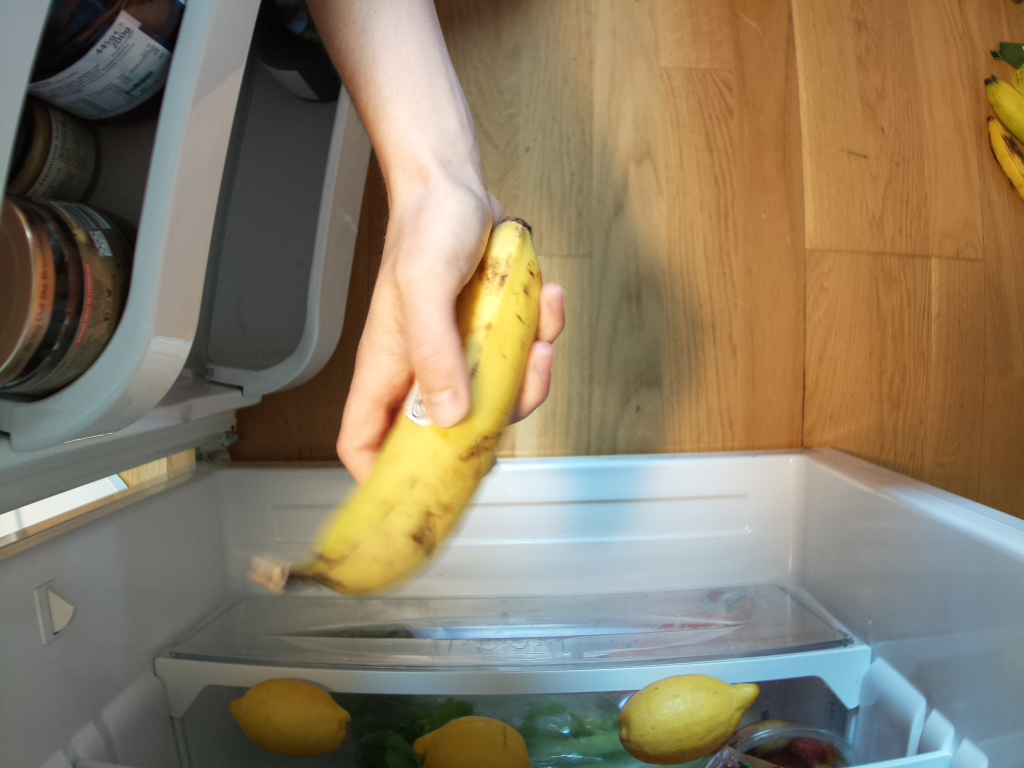banana: (252, 214, 549, 591)
